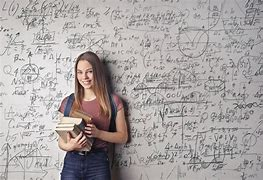book: (60, 115, 89, 131)
